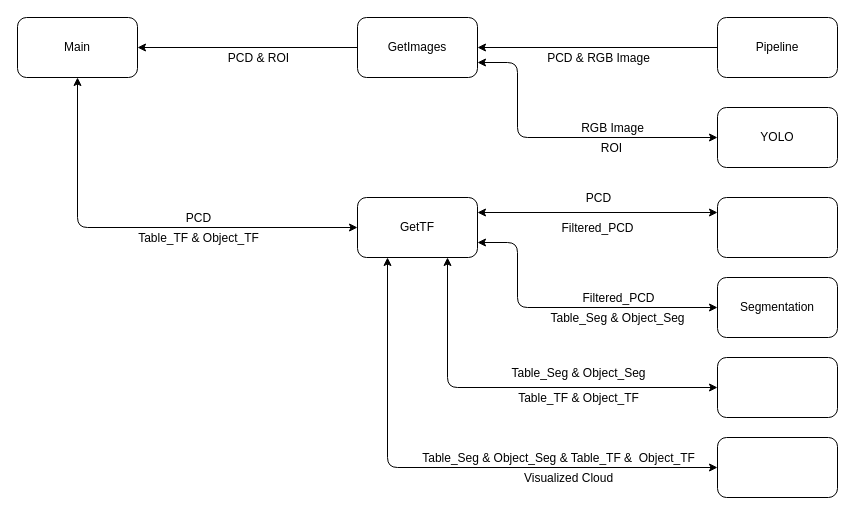
Some shapes in this 855 by 515 pixel diagram are drawn without their labels. Each missing label, with the centre of its shape:
"Filter" goes at [777,227].
"Tf" goes at [777,387].
"Visualization" goes at [777,467].
